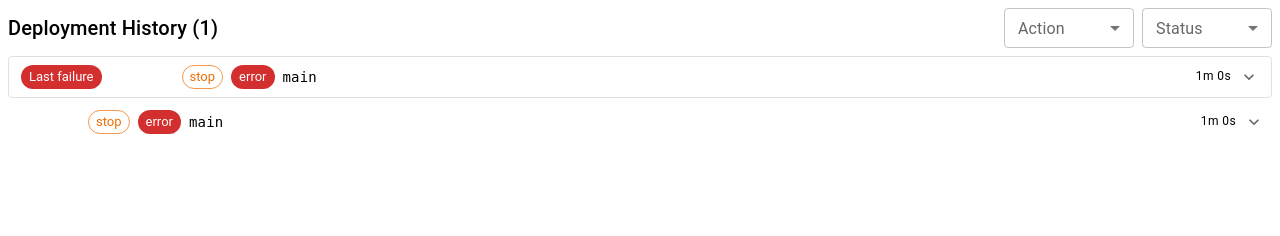
Test case: DeploymentHistory › output panel › shows the error message of a failed operation
The width and height of the screenshot is (1280, 236).
Click the button "stop error main 1m 0s": (109, 122) [8,106,1272,138]
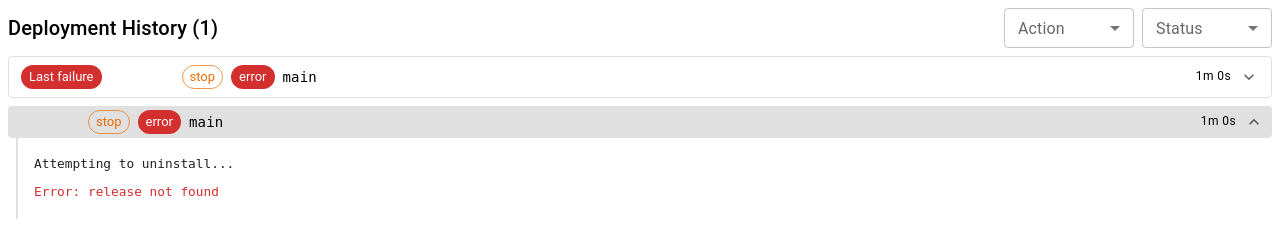
expect the text "Attempting to uninstall... Error: release not found" is shown: met, box [18,138,1272,219]
expect the text "Error: release not found" is shown: met, box [34,184,219,200]
